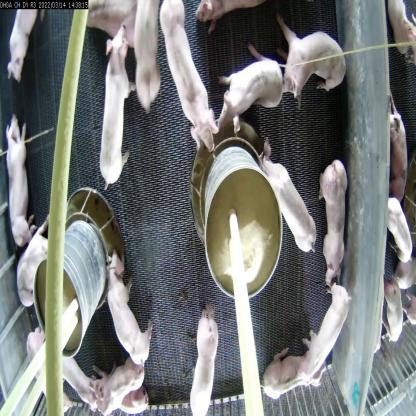Pig: (156, 0, 220, 159), (244, 11, 346, 103), (206, 40, 286, 129), (260, 148, 318, 270), (100, 247, 150, 374), (311, 157, 354, 299), (0, 103, 38, 250), (100, 21, 132, 189), (303, 286, 352, 380), (128, 1, 165, 118), (185, 297, 221, 415), (260, 348, 319, 410), (4, 3, 43, 94), (94, 360, 148, 415), (14, 226, 52, 303)
